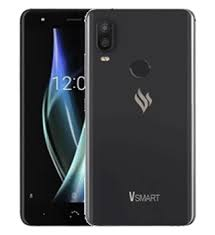vsmart: (84, 6, 197, 231), (20, 6, 89, 229)
